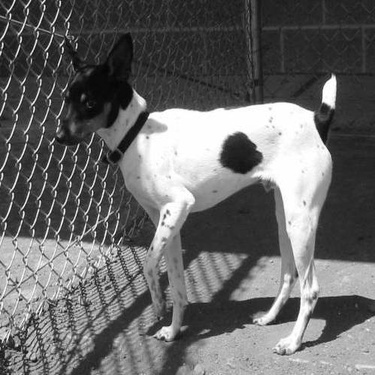dog: (53, 28, 342, 358)
